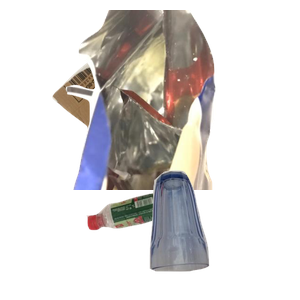cardboard: (50, 38, 233, 184)
glass: (147, 168, 300, 300)
plastic: (84, 191, 242, 300)
trash: (63, 10, 300, 190)
